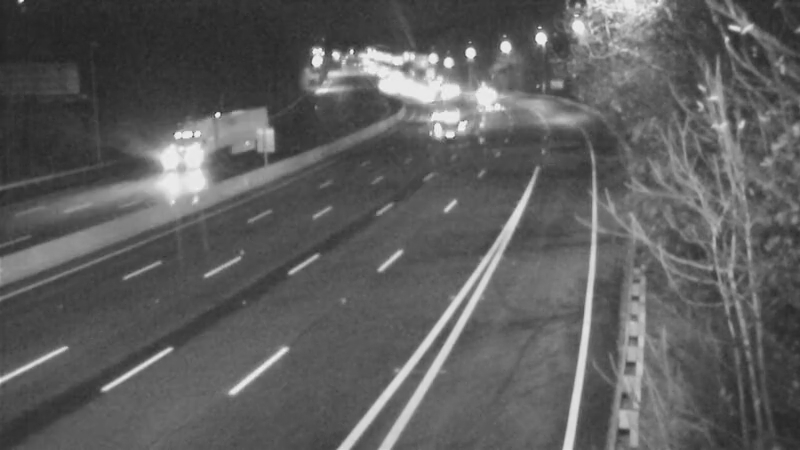vehicle: (422, 64, 472, 114), (451, 66, 501, 116), (410, 71, 460, 121), (466, 81, 516, 131), (413, 88, 463, 138), (428, 101, 478, 151), (164, 116, 214, 166)
